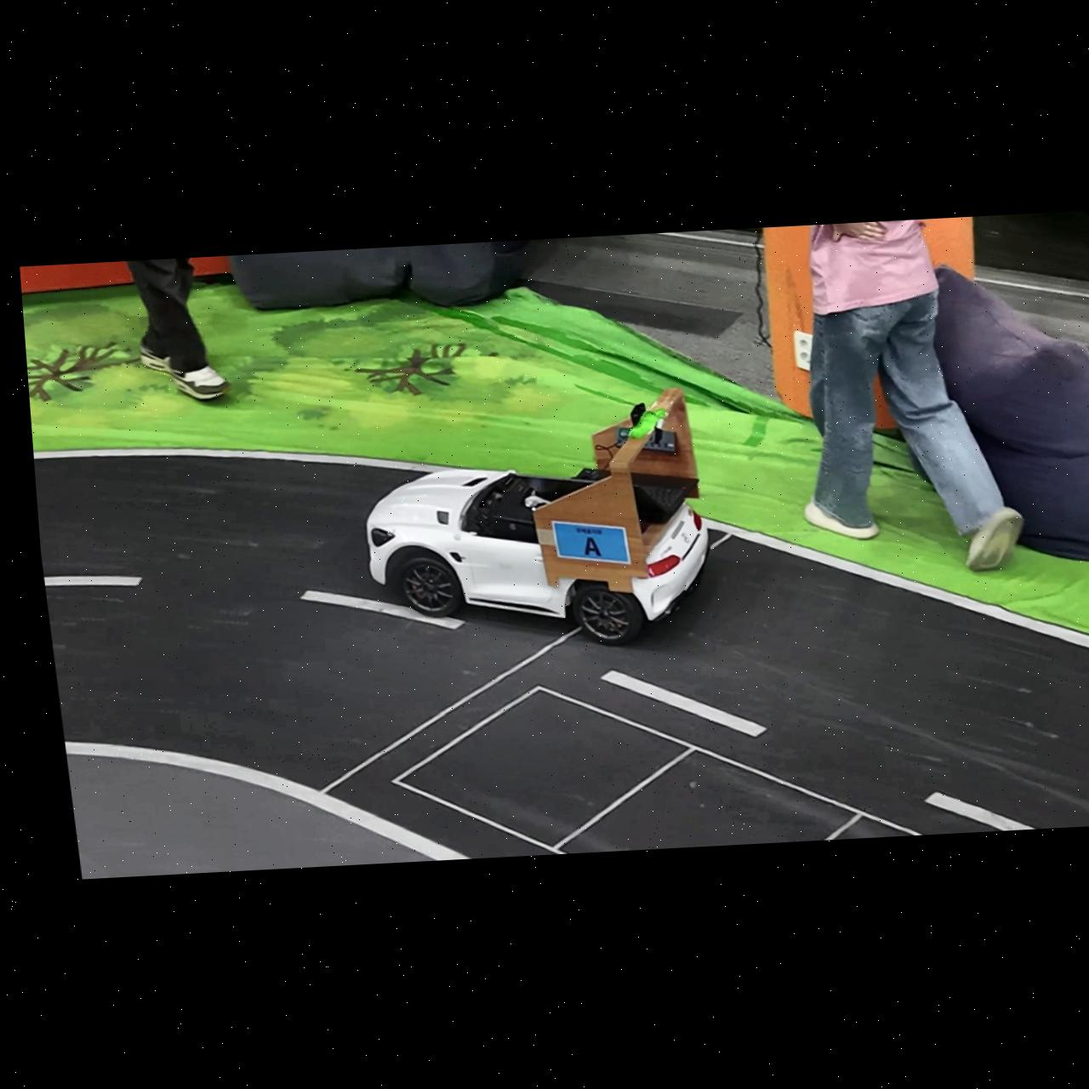broken_line: (599, 670, 767, 737), (299, 590, 465, 629), (924, 791, 1036, 830), (44, 575, 142, 586)
